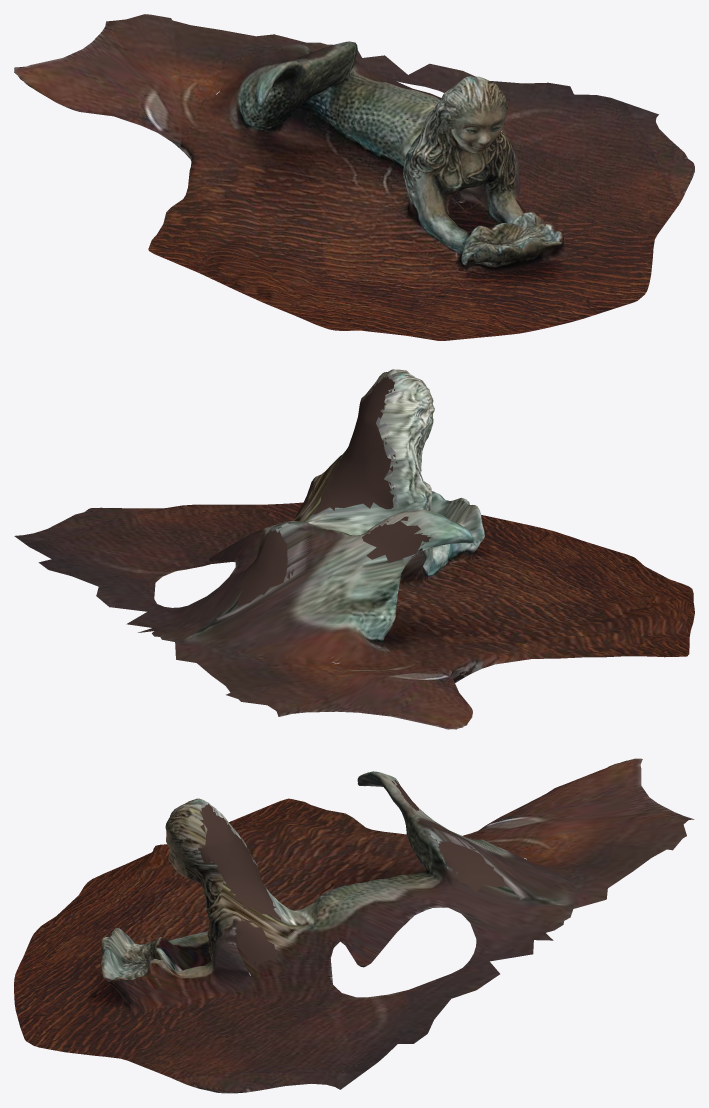
The model's file is meermin.obj.
3 views of the same model, one above another, from view 1: azimuth 30°, elevation 25°; view 2: azimuth 150°, elevation 25°; view 3: azimuth 270°, elevation 25° (orthographic). The views are drawn at different scales.
Visible parts, largest first — view 1: meermin; view 2: meermin; view 3: meermin.
Part boxes in pixels (bbox=[...]): meermin: bbox=[14, 14, 694, 340]; meermin: bbox=[14, 369, 694, 729]; meermin: bbox=[14, 758, 694, 1093].
Bounding box in the file's own units: 35.66 × 11.72 × 36.92.
Materials: 2 (2 with a texture image).
